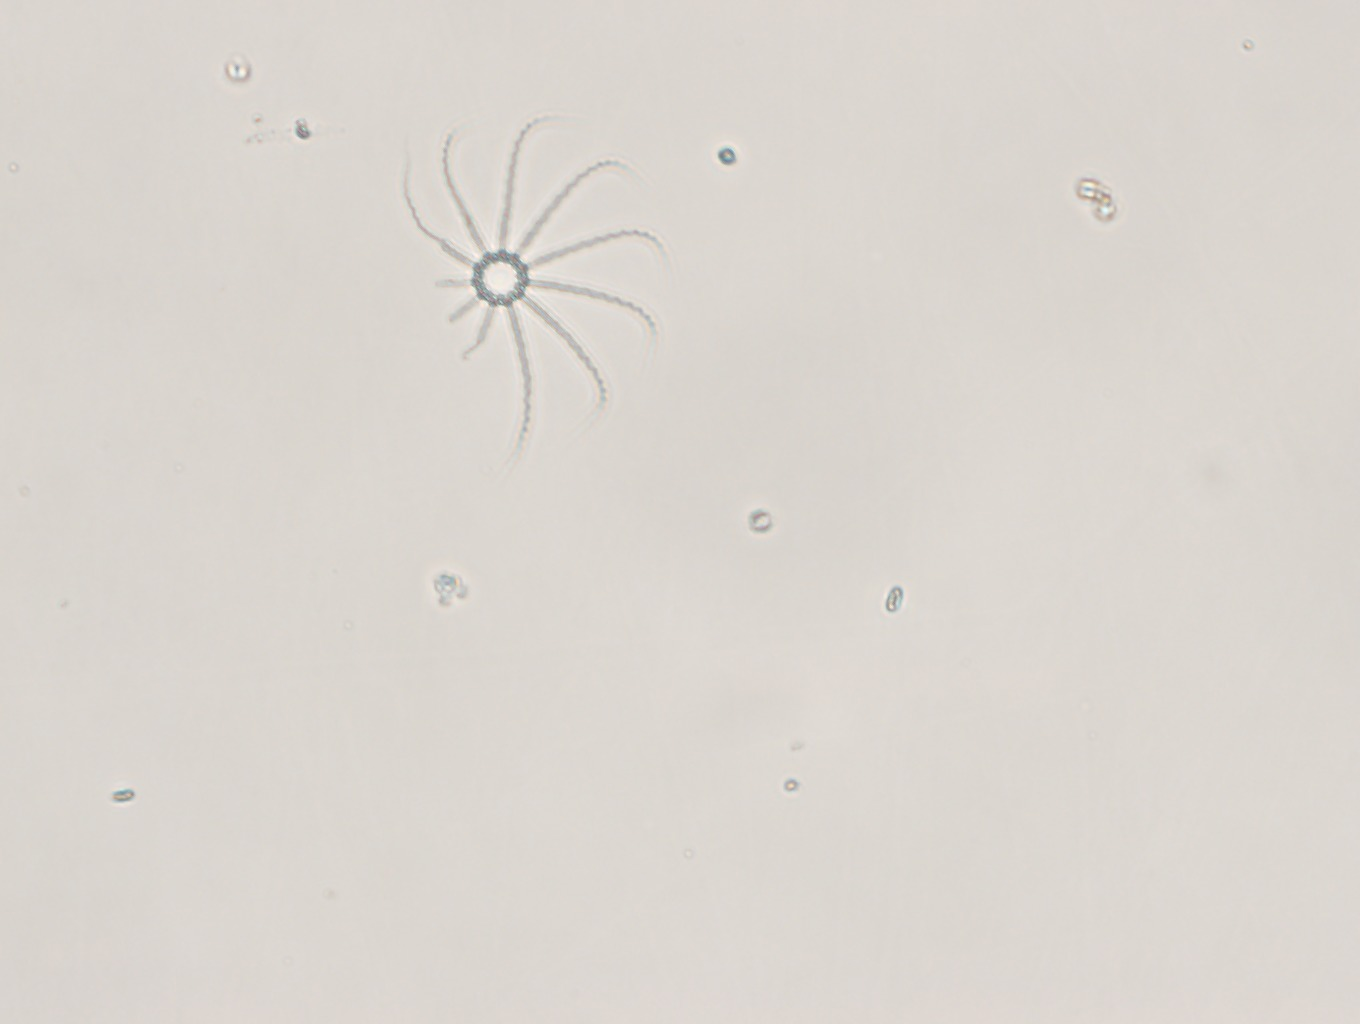bacteriastrum: (338, 109, 676, 473)
